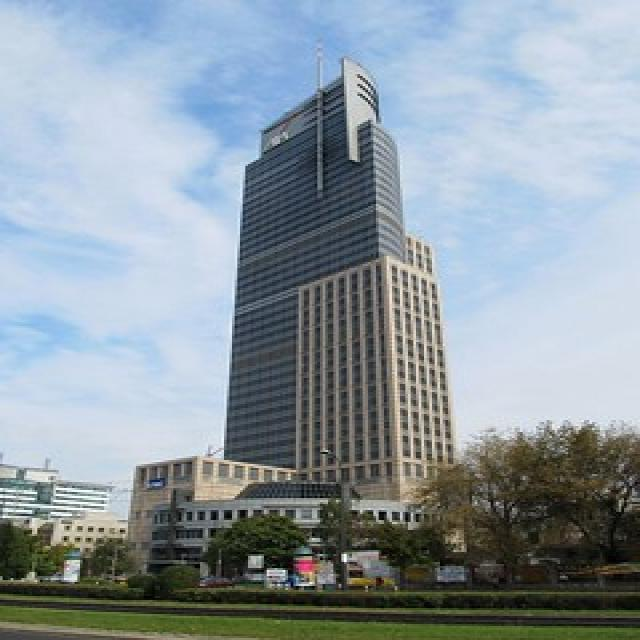Normal_building: (212, 55, 468, 557)
